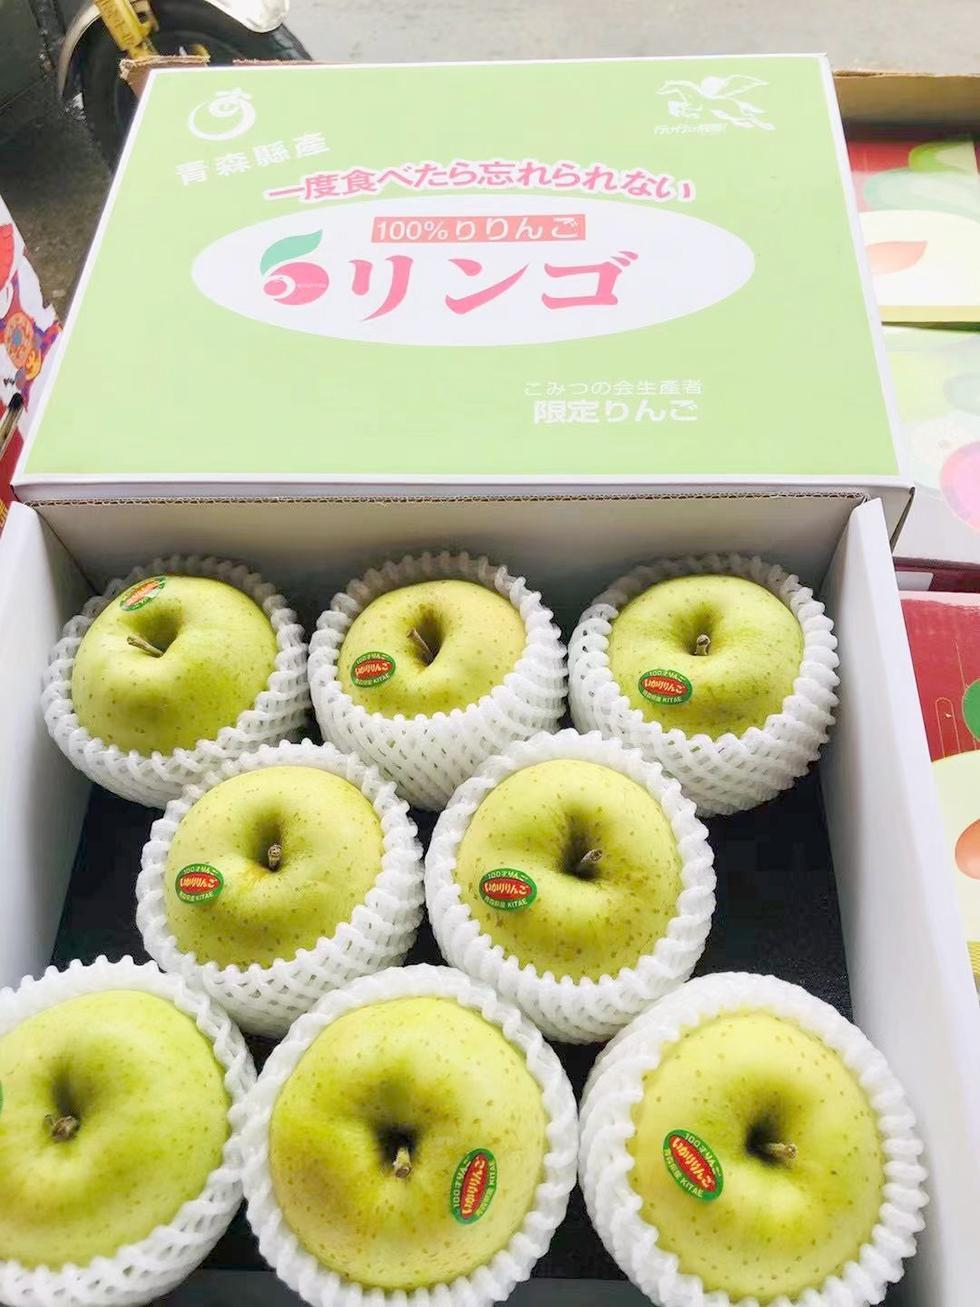apple: (586, 986, 886, 1299), (266, 983, 550, 1290), (1, 960, 235, 1292), (435, 748, 689, 1006), (163, 761, 398, 969), (62, 569, 288, 756), (588, 562, 803, 729), (332, 570, 507, 721)
